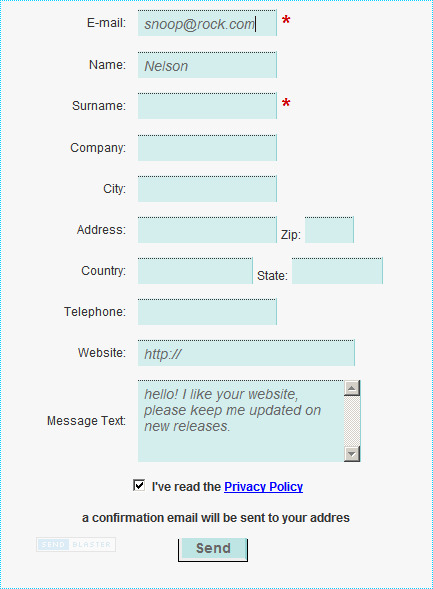_form_: (5, 173, 421, 589), (1, 1, 416, 416)
button: (174, 536, 256, 564)
checkbox: (128, 478, 147, 494)
checkbox_with_label: (124, 477, 308, 497)
field: (133, 378, 364, 465), (134, 339, 357, 367), (133, 91, 280, 121), (135, 8, 278, 38), (133, 134, 280, 163), (133, 175, 278, 204), (135, 50, 278, 79), (133, 298, 281, 326), (133, 216, 279, 244), (133, 256, 256, 286), (287, 256, 386, 287), (299, 216, 354, 244)
field_with_label: (47, 375, 367, 467), (77, 337, 359, 369), (65, 296, 285, 328), (69, 132, 283, 164), (76, 214, 281, 247), (73, 90, 282, 122), (86, 5, 280, 39), (90, 48, 282, 81), (103, 173, 280, 205), (81, 256, 260, 287), (130, 215, 302, 247), (255, 254, 388, 290), (283, 215, 356, 246)
